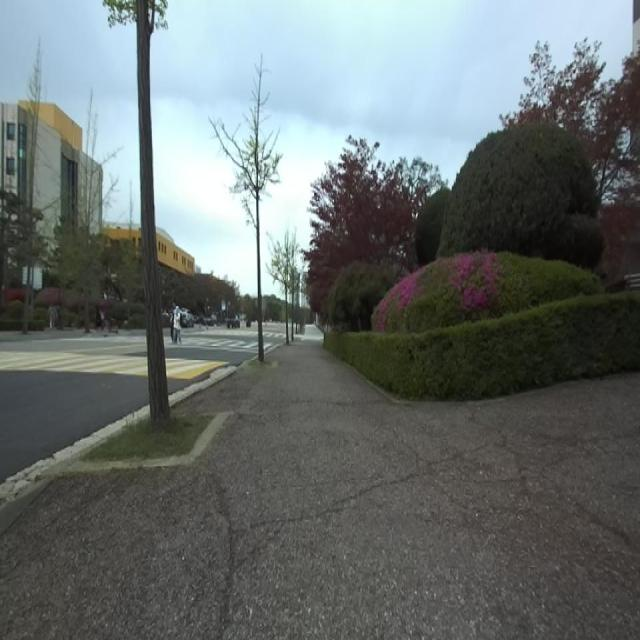sidewalk: (0, 340, 640, 639), (0, 340, 639, 639), (38, 412, 150, 478), (0, 478, 54, 535), (170, 368, 240, 408)
